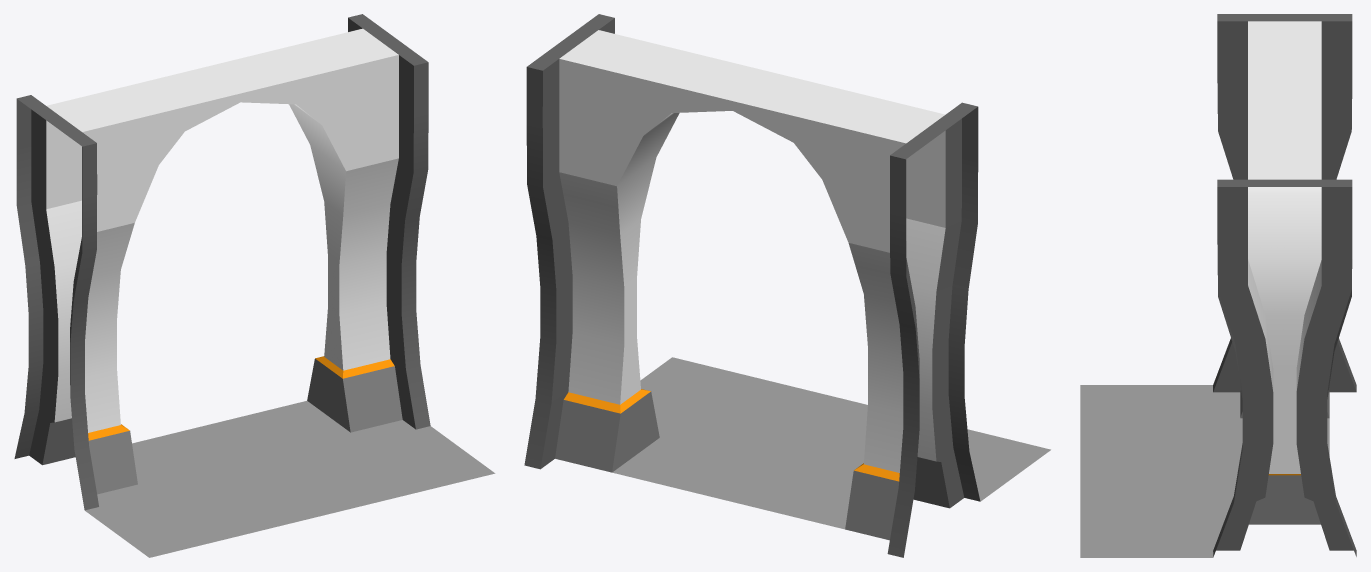
The model's file is SM_InteriorDoor_03.fbx.
3 views of the same model, side by side, from view 1: azimuth 30°, elevation 25°; view 2: azimuth 150°, elevation 25°; view 3: azimuth 270°, elevation 25° (orthographic). The views are drawn at different scales.
Parts seen in each view (by area): view 1: SM_InteriorDoor_03; view 2: SM_InteriorDoor_03; view 3: SM_InteriorDoor_03.
Boxes of the visible parts, x1,y1,x2,y2 form: SM_InteriorDoor_03: (14, 14, 495, 557); SM_InteriorDoor_03: (524, 14, 1050, 557); SM_InteriorDoor_03: (1080, 14, 1356, 557).
Size of the model in its own units: 200 by 200 by 135.
Materials: 1 (1 with a texture image).
